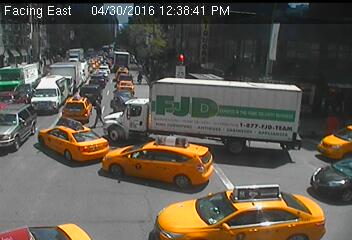neg: (99, 139, 141, 195), (9, 104, 44, 149), (178, 181, 210, 224), (28, 178, 59, 220), (202, 120, 232, 159), (262, 176, 291, 215), (290, 117, 318, 156), (291, 47, 318, 83), (242, 94, 268, 128), (6, 44, 30, 76), (228, 39, 250, 68), (153, 93, 173, 120), (98, 50, 118, 77), (64, 42, 84, 68), (200, 80, 217, 102), (176, 50, 190, 69)
pos: (88, 98, 111, 127), (323, 112, 342, 137), (137, 67, 150, 83)
